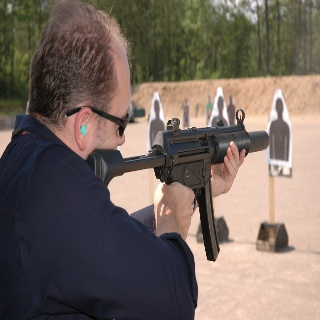rifle: (86, 108, 270, 264)
